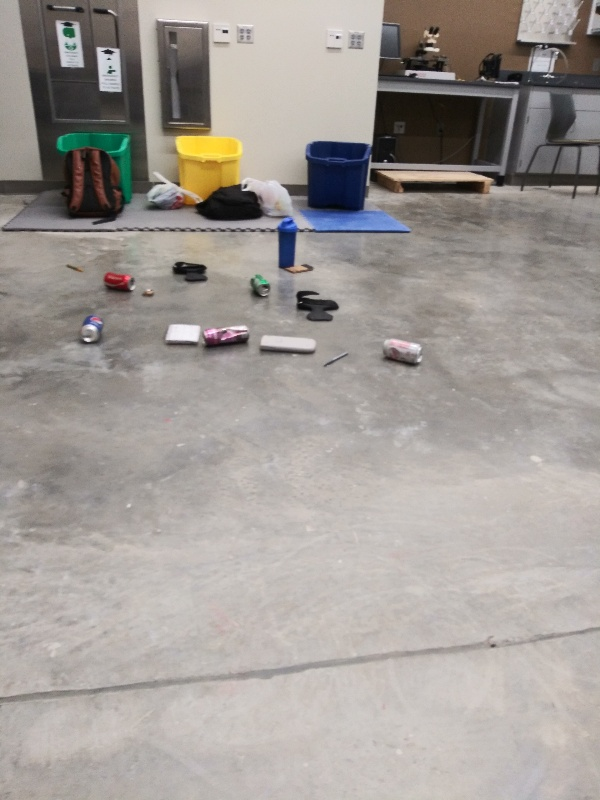can: (378, 334, 425, 367), (201, 321, 252, 351), (76, 312, 108, 342), (102, 269, 138, 292), (248, 272, 273, 297)
